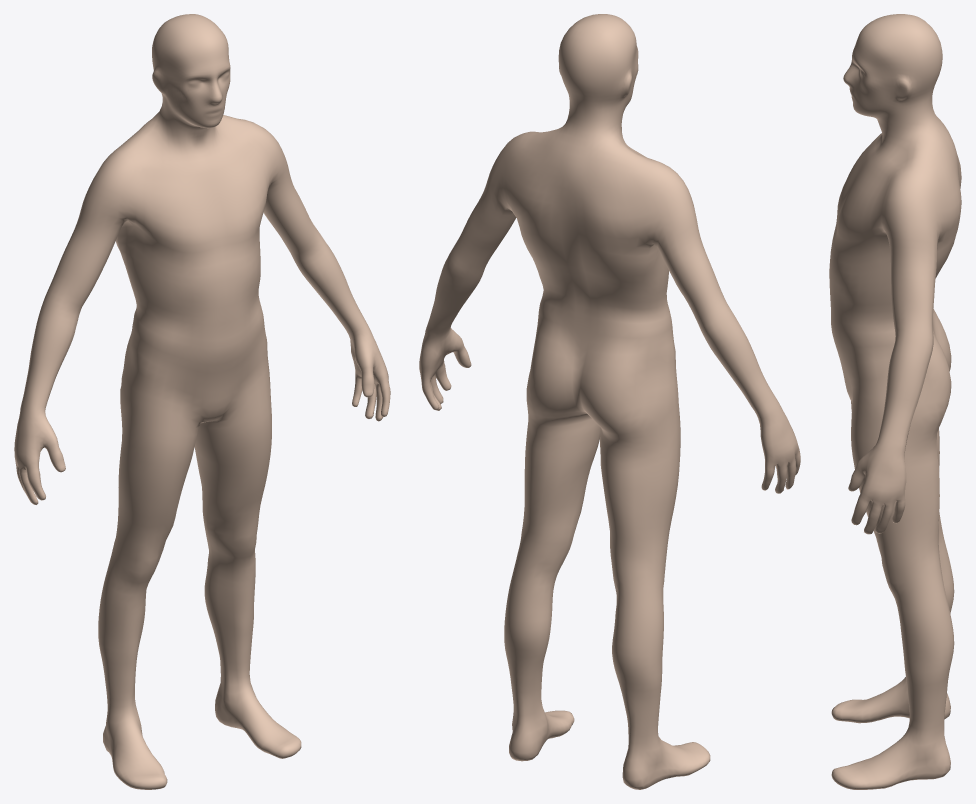
Rendered from HumainEchelle.fbx.
3 views of the same model, side by side, from view 1: azimuth 30°, elevation 25°; view 2: azimuth 150°, elevation 25°; view 3: azimuth 270°, elevation 25° (orthographic).
Visible parts, largest first — view 1: HumanBody:humanBody; view 2: HumanBody:humanBody; view 3: HumanBody:humanBody.
Boxes of the visible parts, <box> form: HumanBody:humanBody: <box>14,14,390,789</box>; HumanBody:humanBody: <box>419,14,800,789</box>; HumanBody:humanBody: <box>829,14,961,789</box>.
Bounding box in the file's own units: 95.48 × 183 × 29.88.
